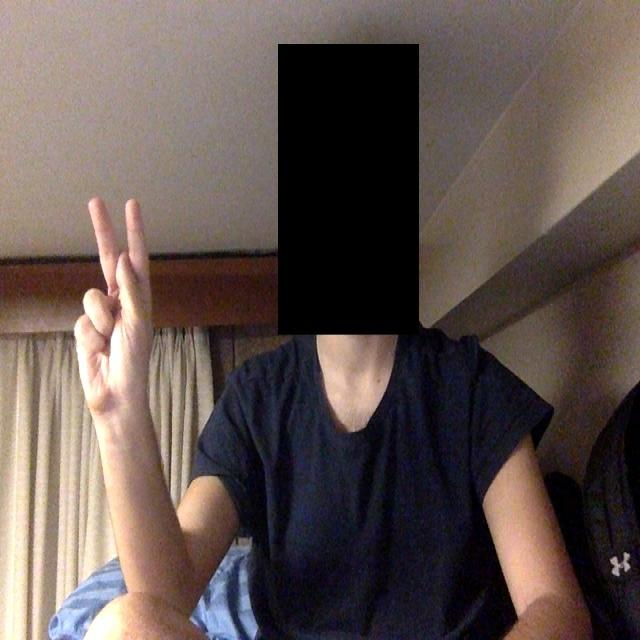K: (46, 170, 193, 461)
